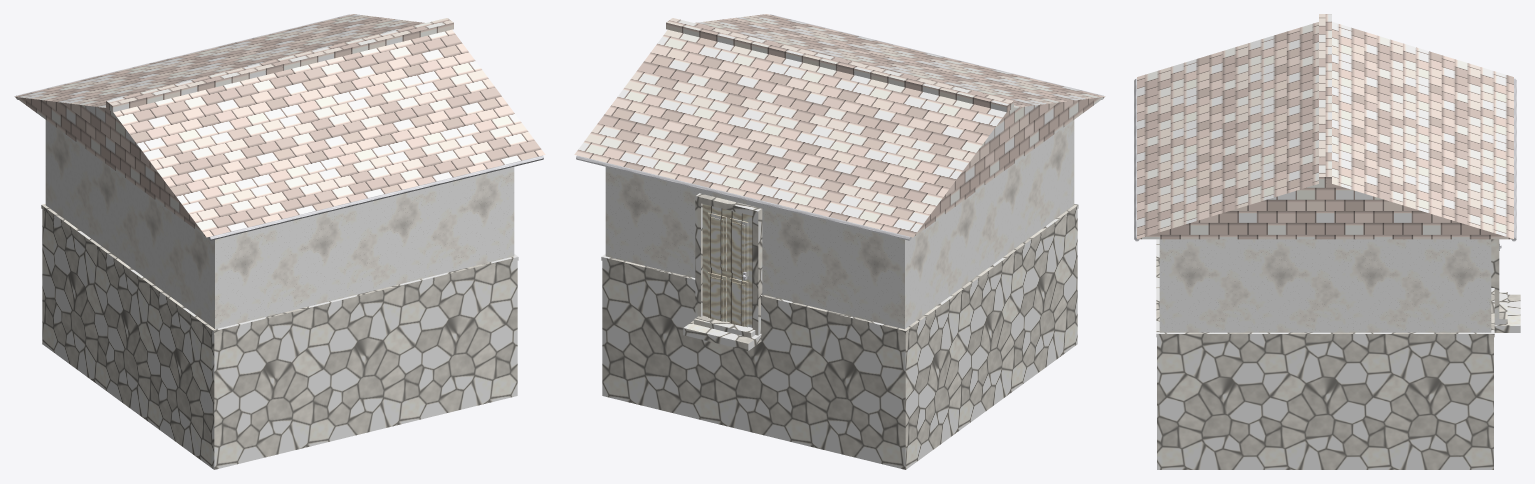
3 views of the same model, side by side, from view 1: azimuth 30°, elevation 25°; view 2: azimuth 150°, elevation 25°; view 3: azimuth 270°, elevation 25° (orthographic). The views are drawn at different scales.
Parts seen in each view (by area): view 1: b1086637705; view 2: b1086637705; view 3: b1086637705.
Part boxes in pixels (bbox=[...]): b1086637705: bbox=[14, 14, 545, 469]; b1086637705: bbox=[574, 14, 1105, 469]; b1086637705: bbox=[1134, 14, 1520, 469].
Size of the model in its own units: 5.98 by 5.16 by 5.98.
Materials: 11 (11 with a texture image).
